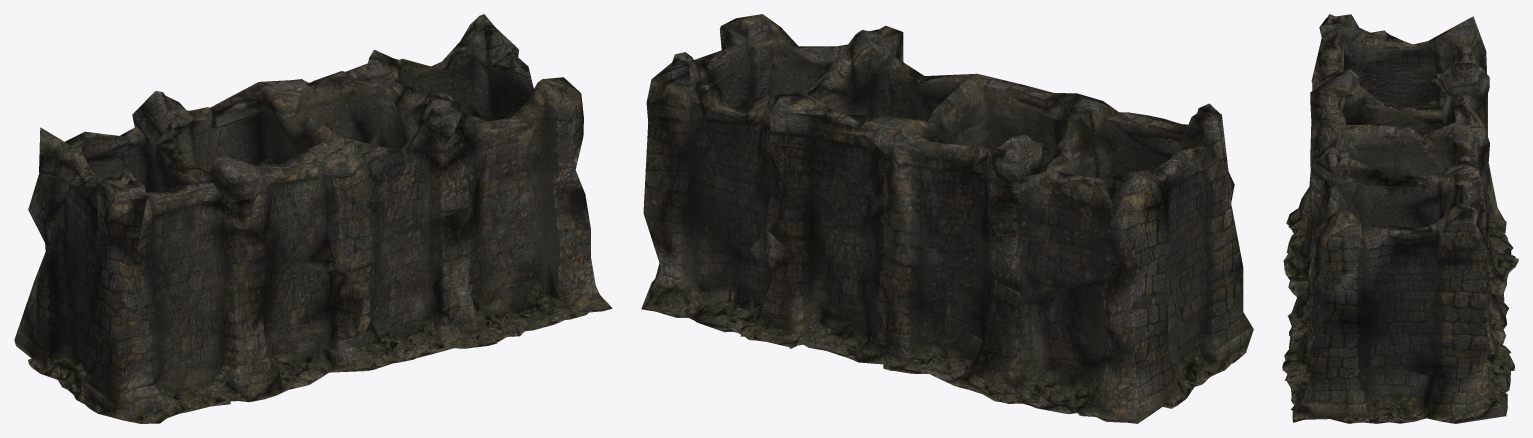
File: fort_m_ruins_wall.glb
The picture shows the model from 3 angles, left to right: view 1: azimuth 30°, elevation 25°; view 2: azimuth 150°, elevation 25°; view 3: azimuth 270°, elevation 25°; orthographic projection. The views are drawn at different scales.
Parts seen in each view (by area): view 1: fort_m_ruins_wall; view 2: fort_m_ruins_wall; view 3: fort_m_ruins_wall.
Boxes of the visible parts, <box> form: fort_m_ruins_wall: <box>14,14,612,423</box>; fort_m_ruins_wall: <box>641,14,1253,423</box>; fort_m_ruins_wall: <box>1282,14,1518,423</box>.
Bounding box in the file's own units: 1.89 × 0.8416 × 0.8658.
Materials: 1 (1 with a texture image).
